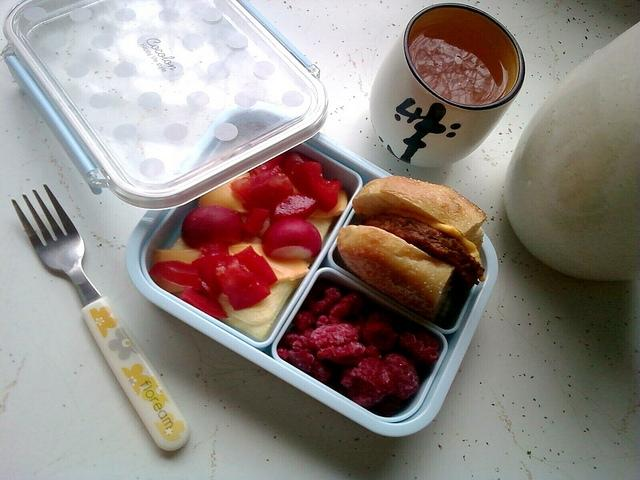radish: (181, 204, 246, 255), (263, 217, 321, 260)
tomato: (230, 165, 295, 219), (182, 204, 244, 256), (289, 162, 341, 212), (216, 265, 270, 311), (192, 254, 239, 302), (234, 246, 278, 290), (179, 286, 228, 318), (270, 193, 316, 225), (150, 260, 200, 288), (242, 206, 270, 236)
